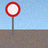sign: (5, 2, 20, 36)
